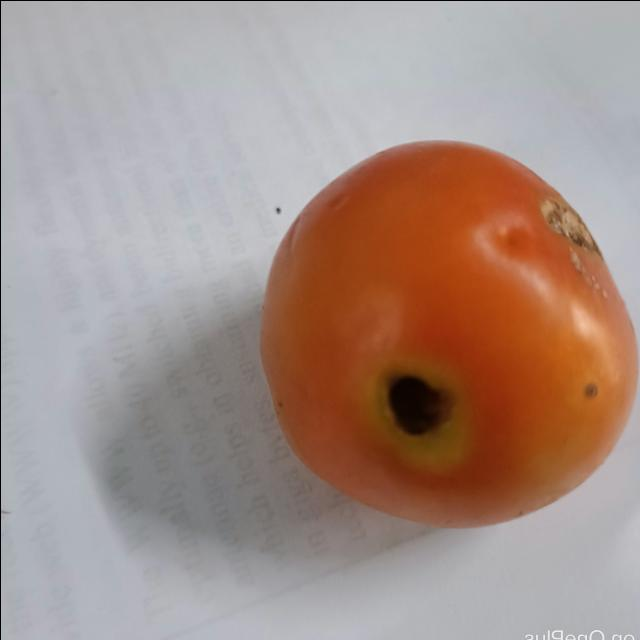fruitworm_bore: (380, 363, 455, 447)
